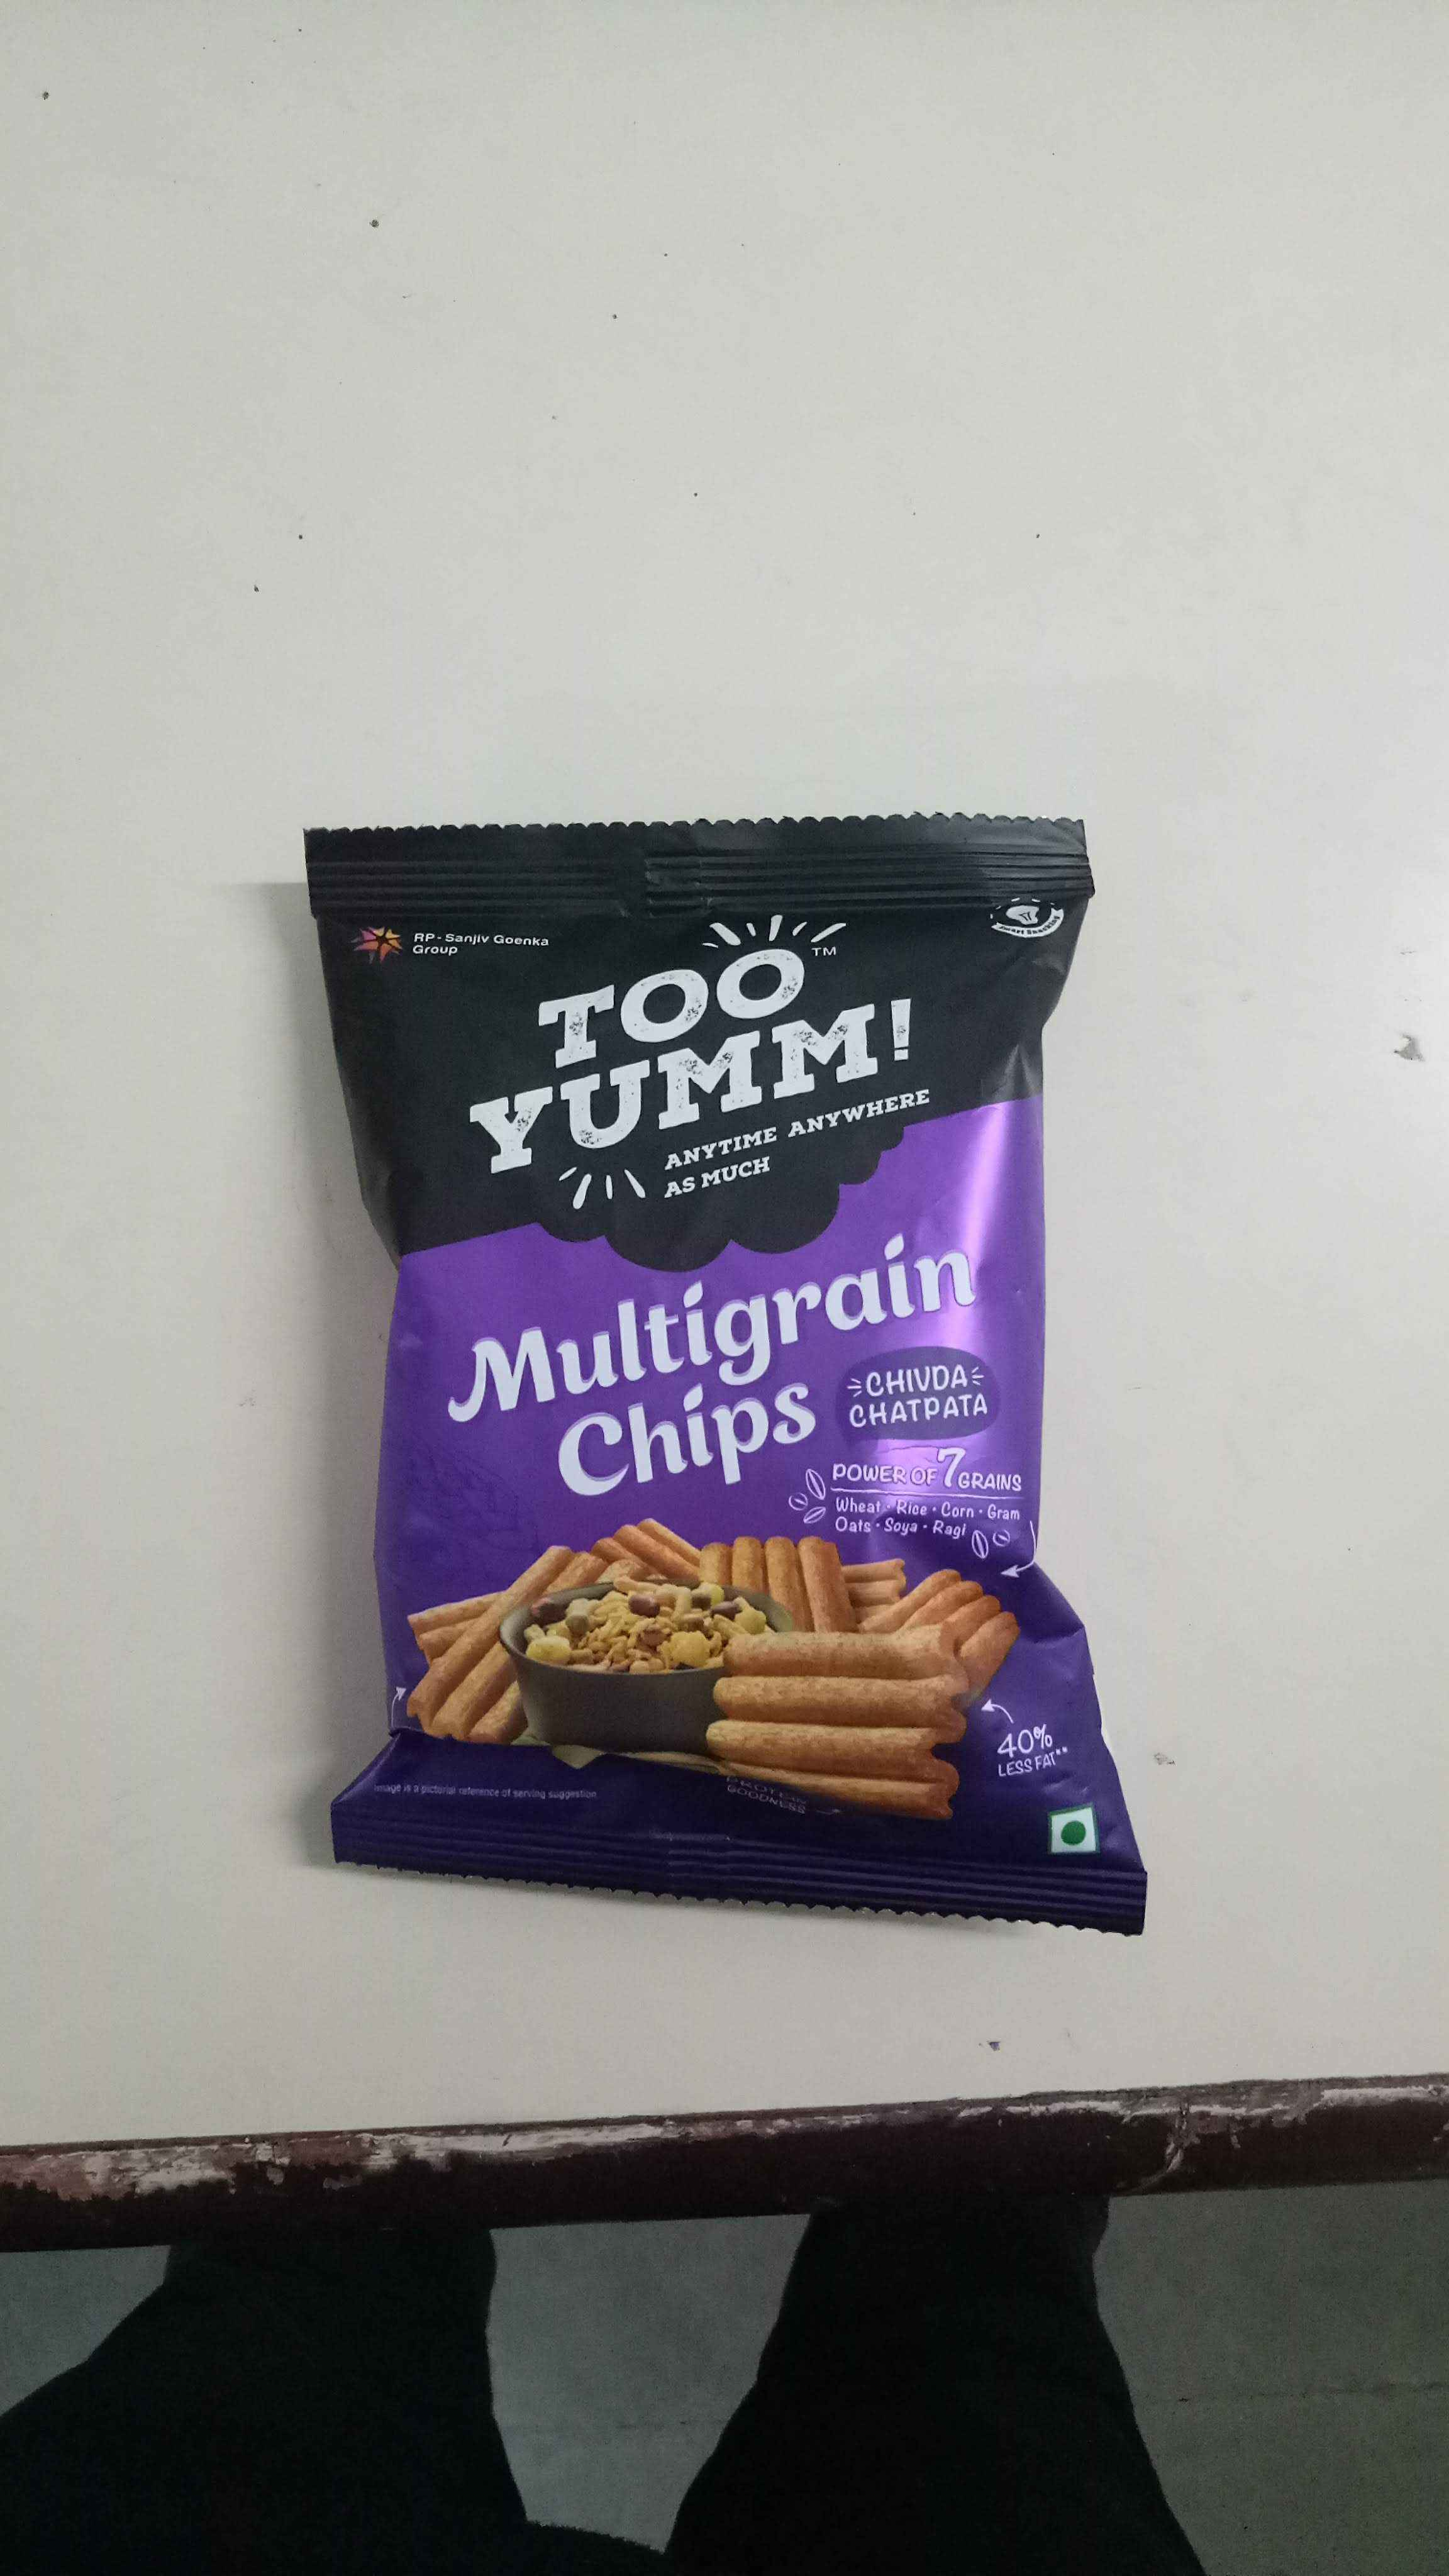tooyumm: (469, 925, 939, 1231)
